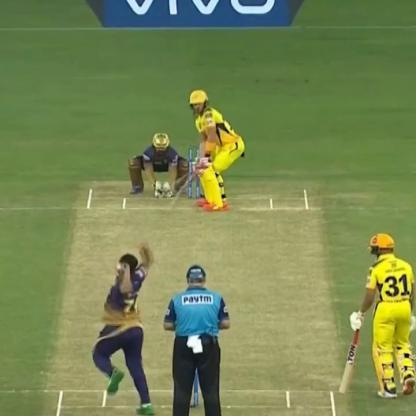ball: (111, 259, 125, 274)
bat: (163, 163, 205, 204)
pitch: (47, 178, 348, 415)
